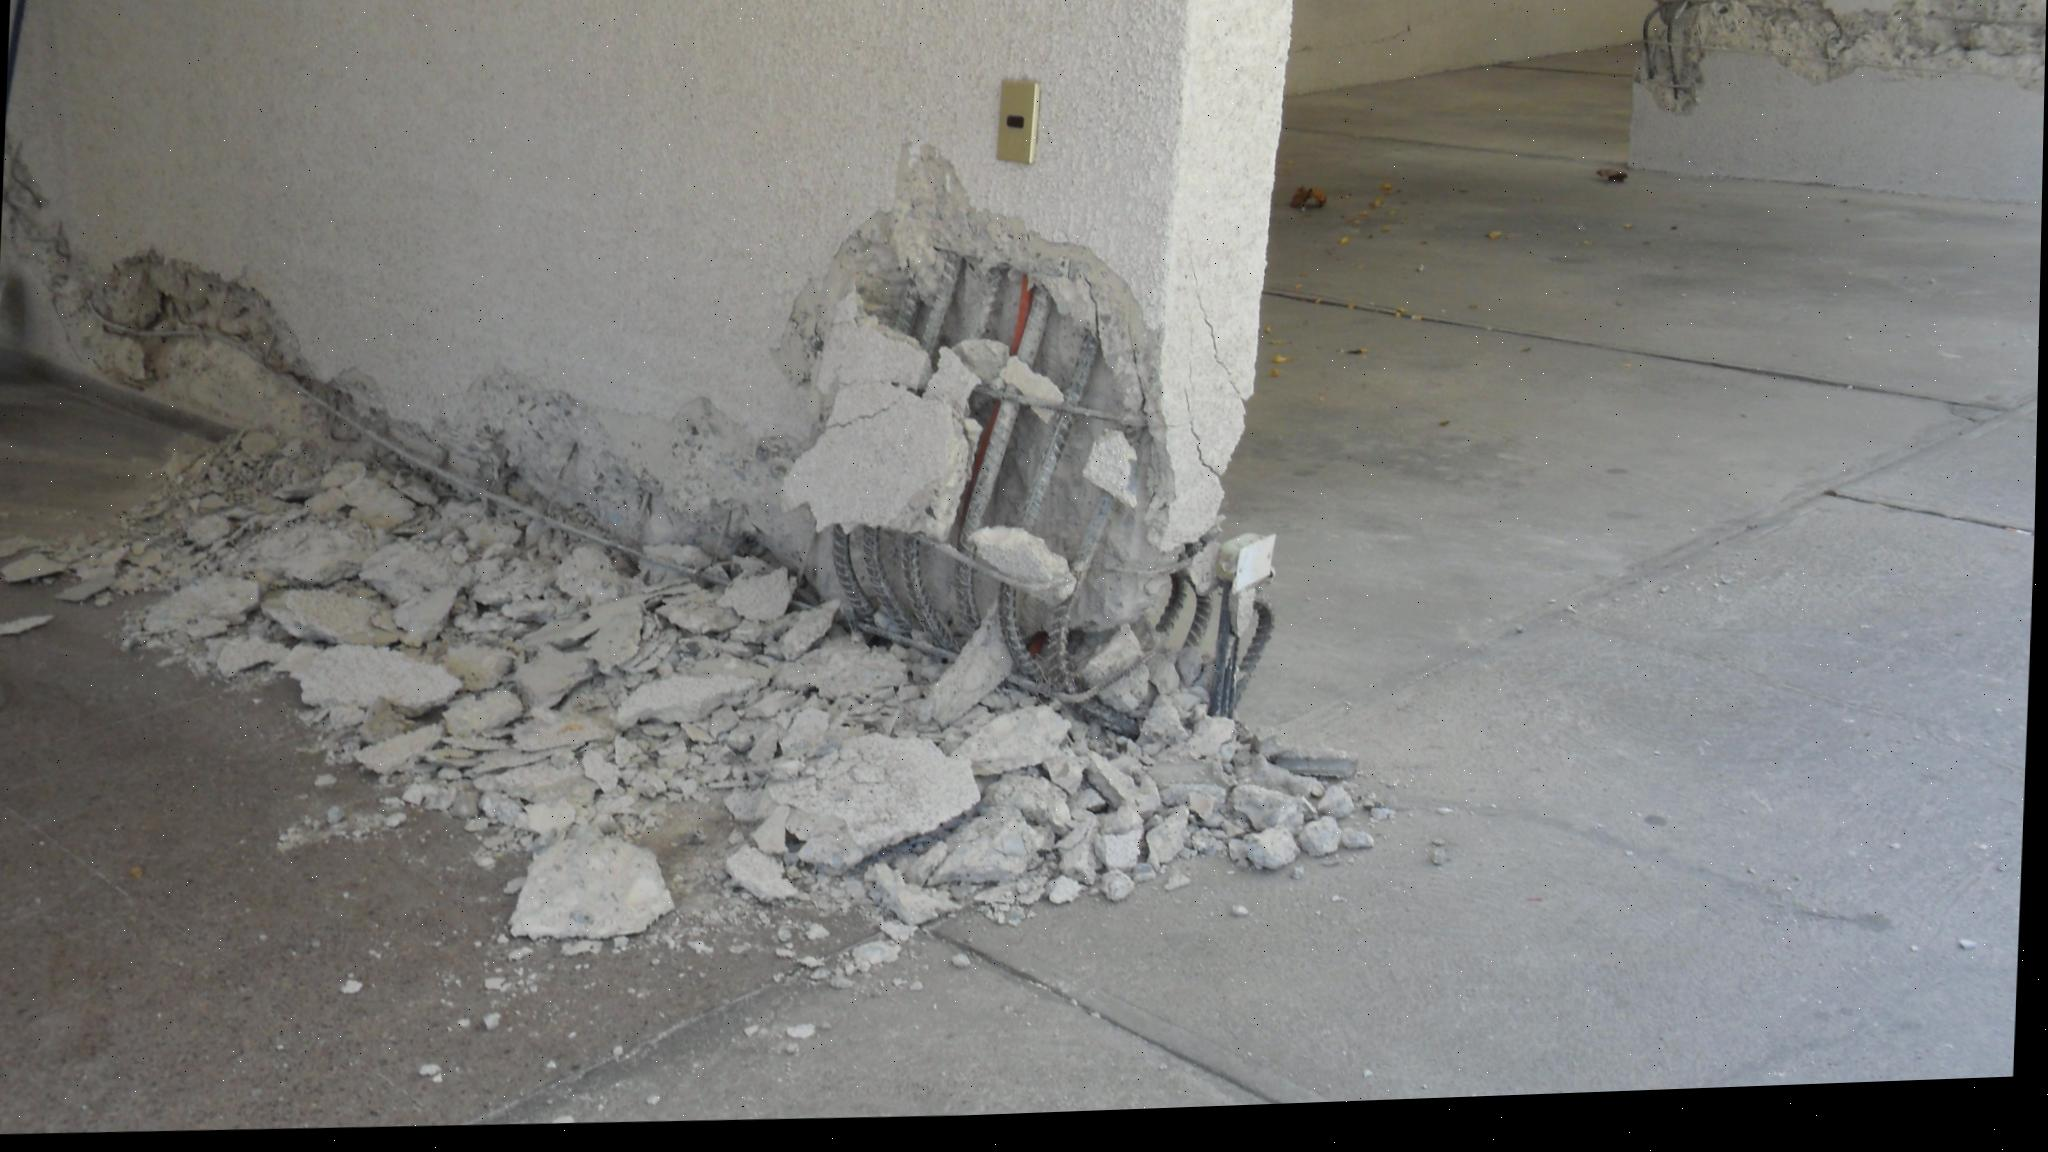exposed_rebar: (892, 536, 959, 647), (964, 407, 1017, 539), (1020, 409, 1072, 530), (920, 252, 962, 356), (1038, 594, 1077, 693), (831, 526, 872, 620), (1070, 492, 1113, 572), (859, 529, 897, 612), (996, 587, 1031, 674), (1014, 286, 1052, 366), (1065, 332, 1099, 405), (972, 266, 1006, 335), (952, 563, 980, 632), (896, 280, 917, 332)
spalling: (0, 134, 1221, 689), (1636, 0, 2047, 113)
